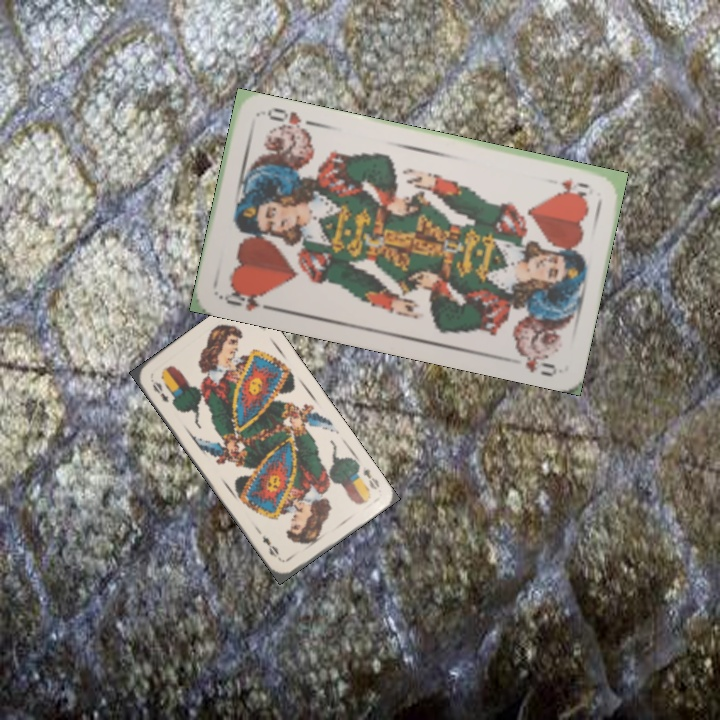EO: (358, 462, 382, 492), (148, 377, 171, 405)
HO: (217, 283, 276, 314), (557, 174, 592, 198)
